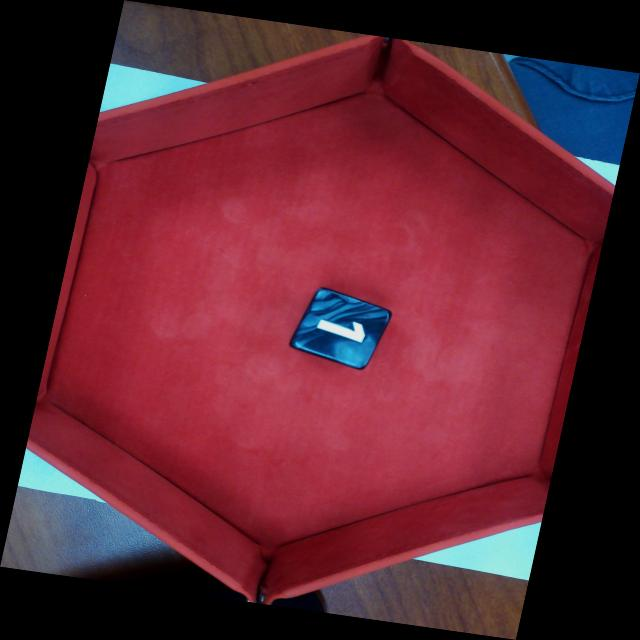dice: (293, 290, 394, 366)
